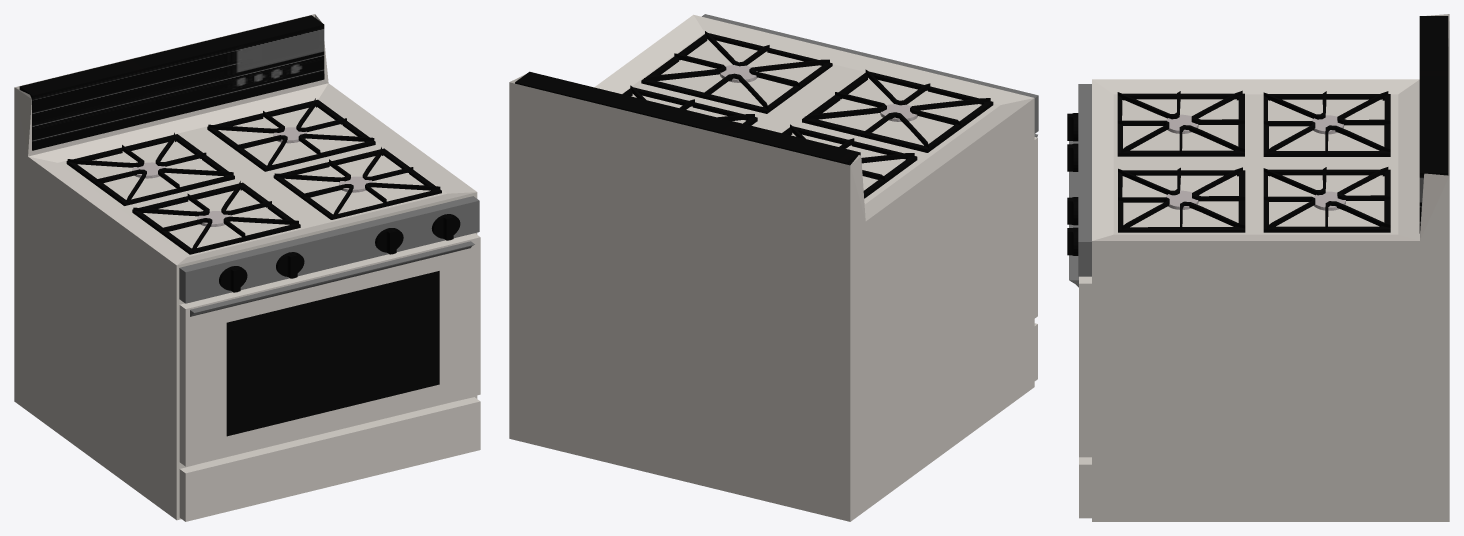
The model's file is sh-contrib-stove1.glb.
3 renders of one model, left to right at view 1: azimuth 30°, elevation 25°; view 2: azimuth 150°, elevation 25°; view 3: azimuth 270°, elevation 25°, orthographic. The views are drawn at different scales.
Visible parts, largest first — view 1: bottomstorage, ovenwindow, PolyMesh_1, newcover, Controlpanel, knob_1, burner_3; view 2: bottomstorage, newcover, PolyMesh_1, Controlpanel, burner_3; view 3: bottomstorage, newcover, PolyMesh_1, Controlpanel, burner_3, knob_1.
Boxes of the visible parts, box(x1,y1,x2,y2) form: bottomstorage: box(14, 14, 480, 521); ovenwindow: box(226, 271, 439, 436); PolyMesh_1: box(19, 15, 324, 150); newcover: box(66, 98, 441, 254); Controlpanel: box(179, 196, 479, 316); knob_1: box(219, 214, 460, 292); burner_3: box(132, 127, 372, 226); bottomstorage: box(509, 14, 1037, 521); newcover: box(622, 31, 993, 198); PolyMesh_1: box(515, 71, 860, 165); Controlpanel: box(702, 14, 1038, 137); burner_3: box(720, 65, 917, 121); bottomstorage: box(1079, 14, 1449, 521); newcover: box(1117, 90, 1390, 232); PolyMesh_1: box(1419, 16, 1448, 233); Controlpanel: box(1069, 84, 1091, 287); burner_3: box(1166, 114, 1345, 210); knob_1: box(1067, 113, 1078, 255).
Size of the model in its own units: 1 by 1 by 1.
7 materials, 1 textured.
